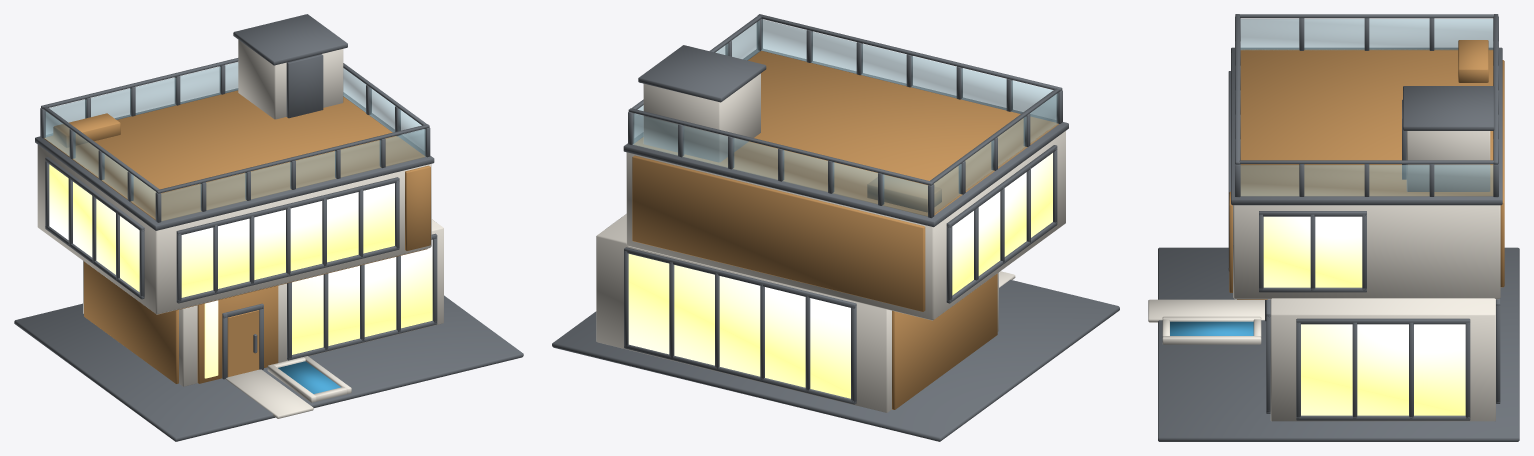
The model's file is modern-flat-roof-villa.glb.
3 views of the same model, side by side, from view 1: azimuth 30°, elevation 25°; view 2: azimuth 150°, elevation 25°; view 3: azimuth 270°, elevation 25° (orthographic). The views are drawn at different scales.
Parts seen in each view (by area): view 1: ModernVilla, Door; view 2: ModernVilla; view 3: ModernVilla.
Boxes of the visible parts, box(x1,y1,x2,y2) form: ModernVilla: box(14, 14, 523, 441); Door: box(227, 310, 259, 376); ModernVilla: box(552, 14, 1119, 441); ModernVilla: box(1148, 14, 1519, 441).
Bounding box in the file's own units: 48 × 32.9 × 39.5.
